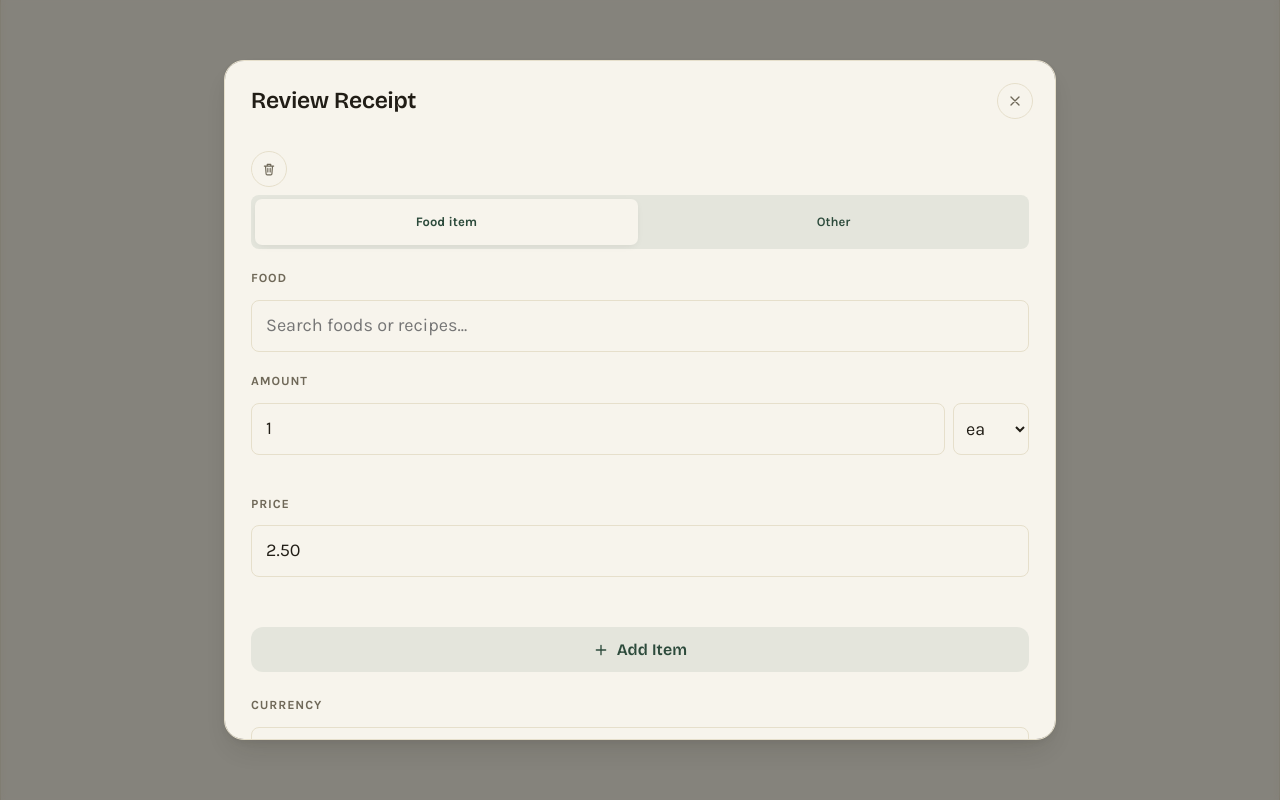
it: ReceiptReviewModal — food row uses a search autocomplete, not a dropdown › filters and selects a matching food, updating the row
In the field with placeholder "Search foods or recipes...": (640, 326) [251,300,1029,352], type "oat"
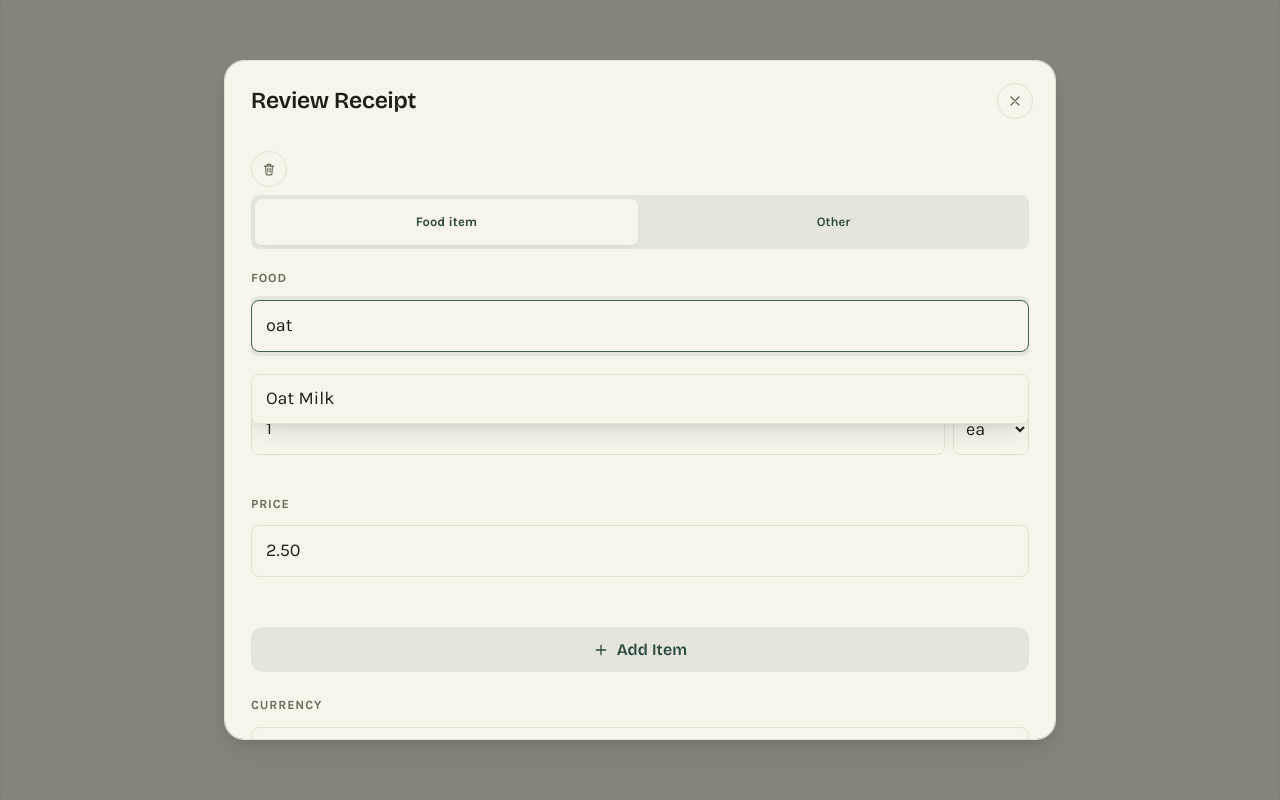
Click the button "Oat Milk": (300, 398) [252,375,1028,423]
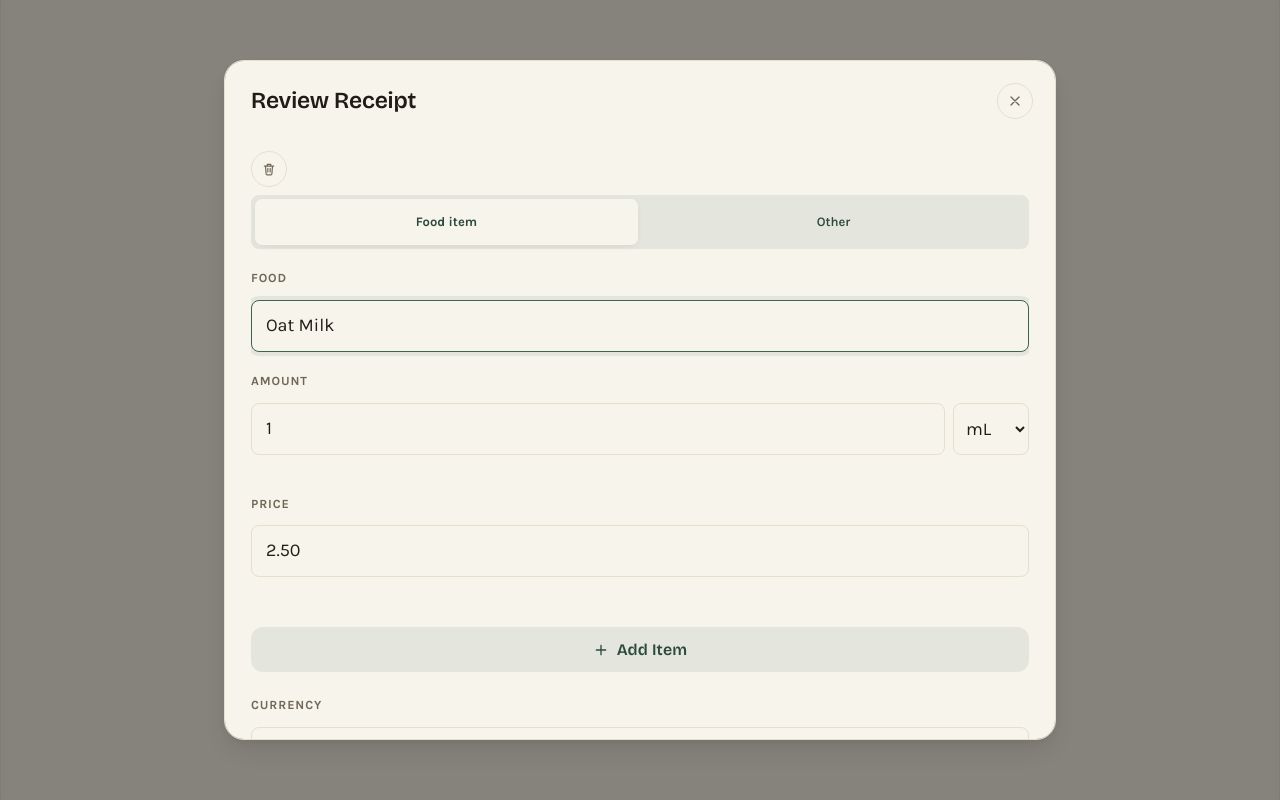
Check: the field showing "Oat Milk" is shown, box [251,300,1029,352]
